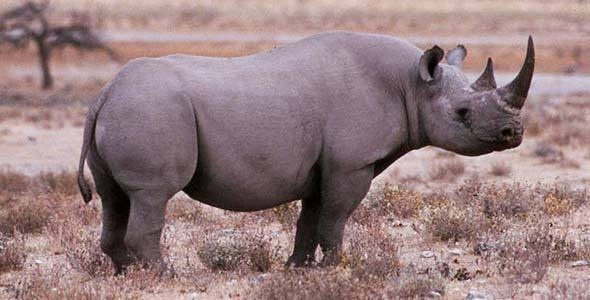rhino: (78, 28, 539, 275)
